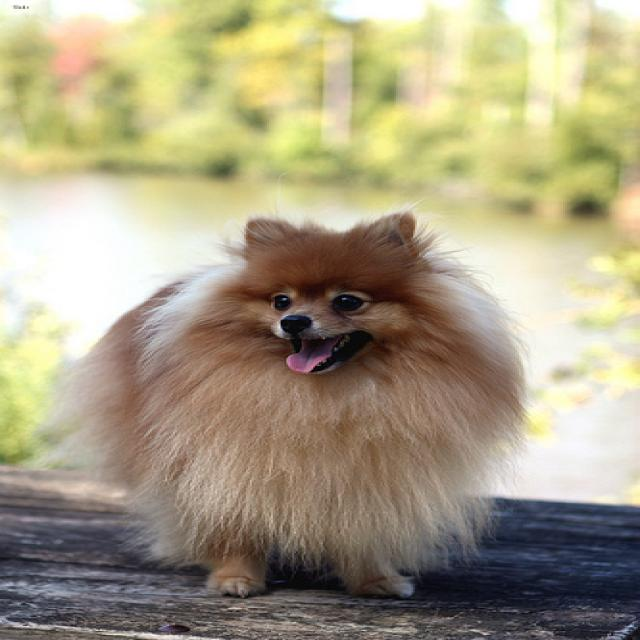dog-pomeranian: (27, 195, 550, 609)
